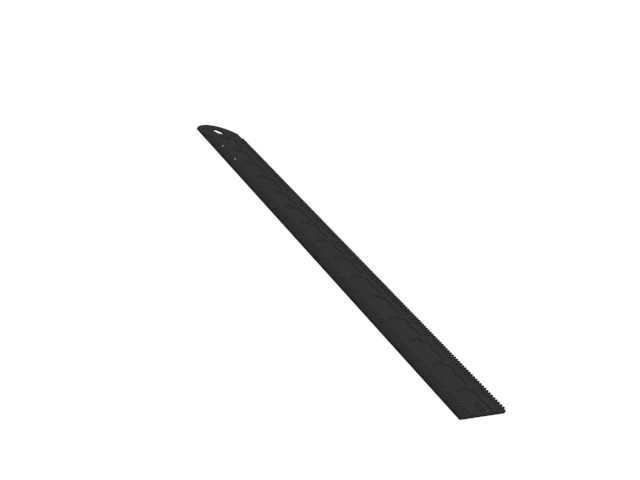ruler: (193, 121, 512, 424)
